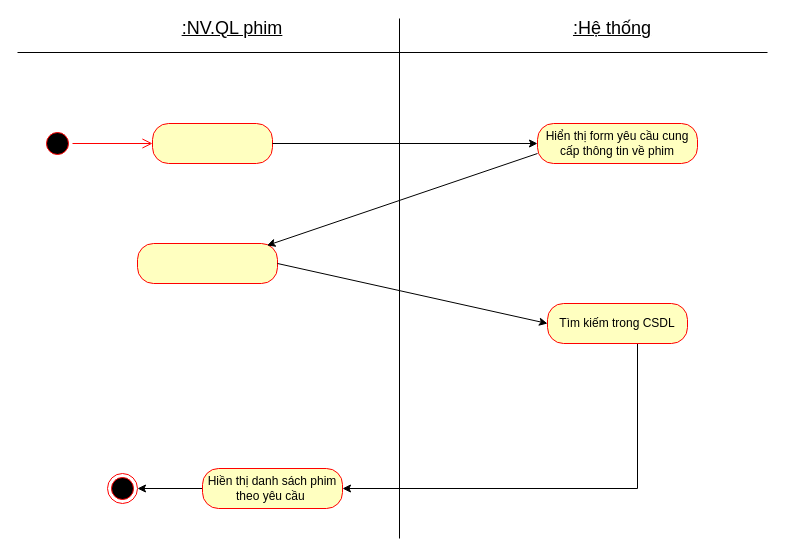
This 785x557 diagram has some shape labels left out. Here are the shapes that lost their labels. From the top down, the centre of each, then its label:
[212,143]: Yêu cầu tìm kiếm và liệt kê phim
[207,263]: Cung cấp thông tin
